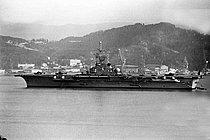MIL_Ship: (14, 47, 201, 90)
